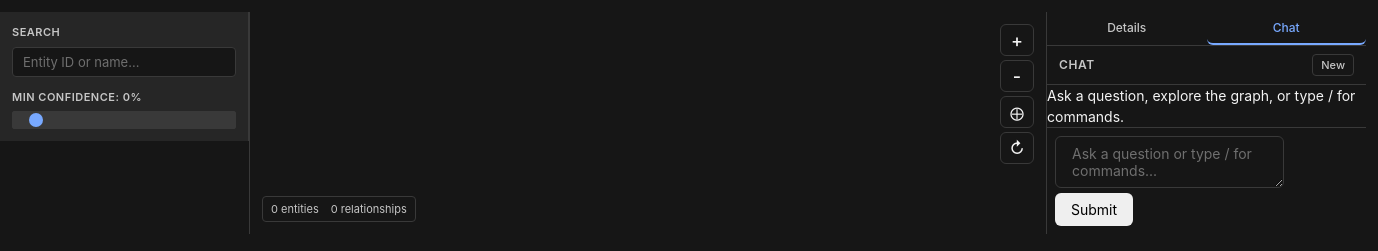
it: DataView — right panel tab controls › tab state toggles correctly on repeated clicks
Click the tab with test id "data-view-tab-chat": [1286, 28] box x1=1206 y1=12 x2=1366 y2=45
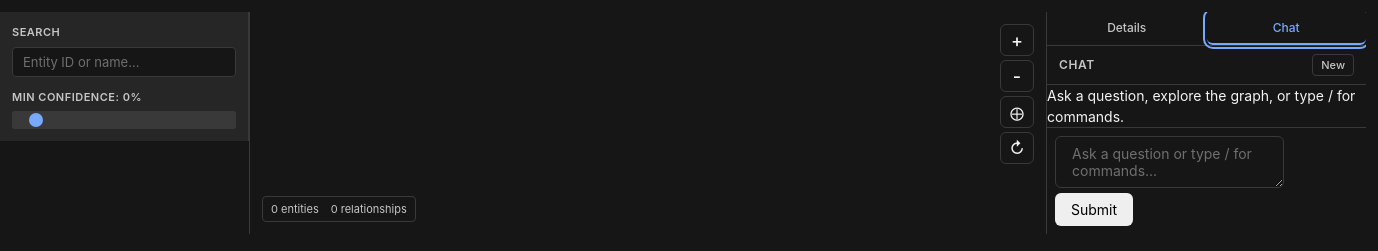
Expected: the element with test id "chat-panel" is shown, x1=1047 y1=46 x2=1366 y2=234
Click the tab with test id "data-view-tab-details": [1127, 28] box x1=1047 y1=12 x2=1206 y2=45
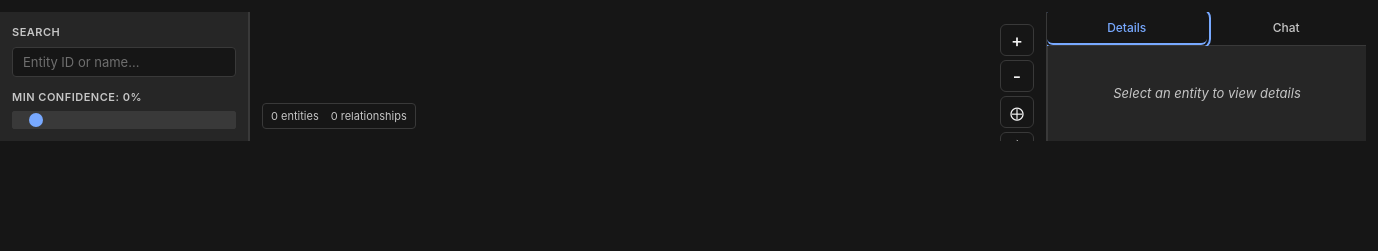
Expected: the element with test id "chat-panel" is gone
Click the tab with test id "data-view-tab-chat": [1286, 28] box x1=1206 y1=12 x2=1366 y2=45
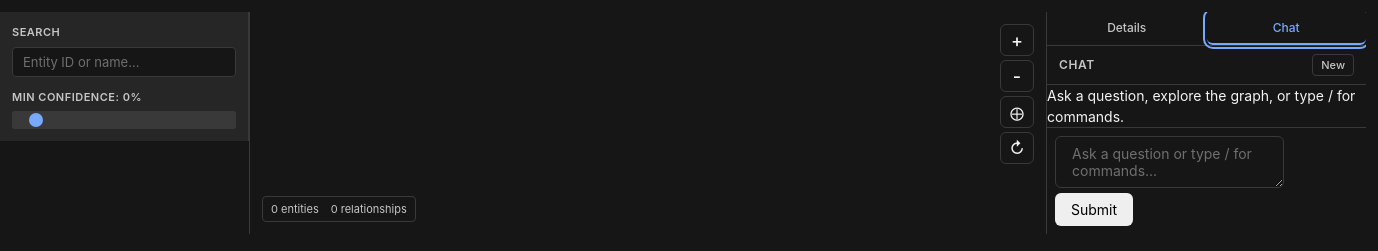
Expected: the element with test id "chat-panel" is shown, x1=1047 y1=46 x2=1366 y2=234
